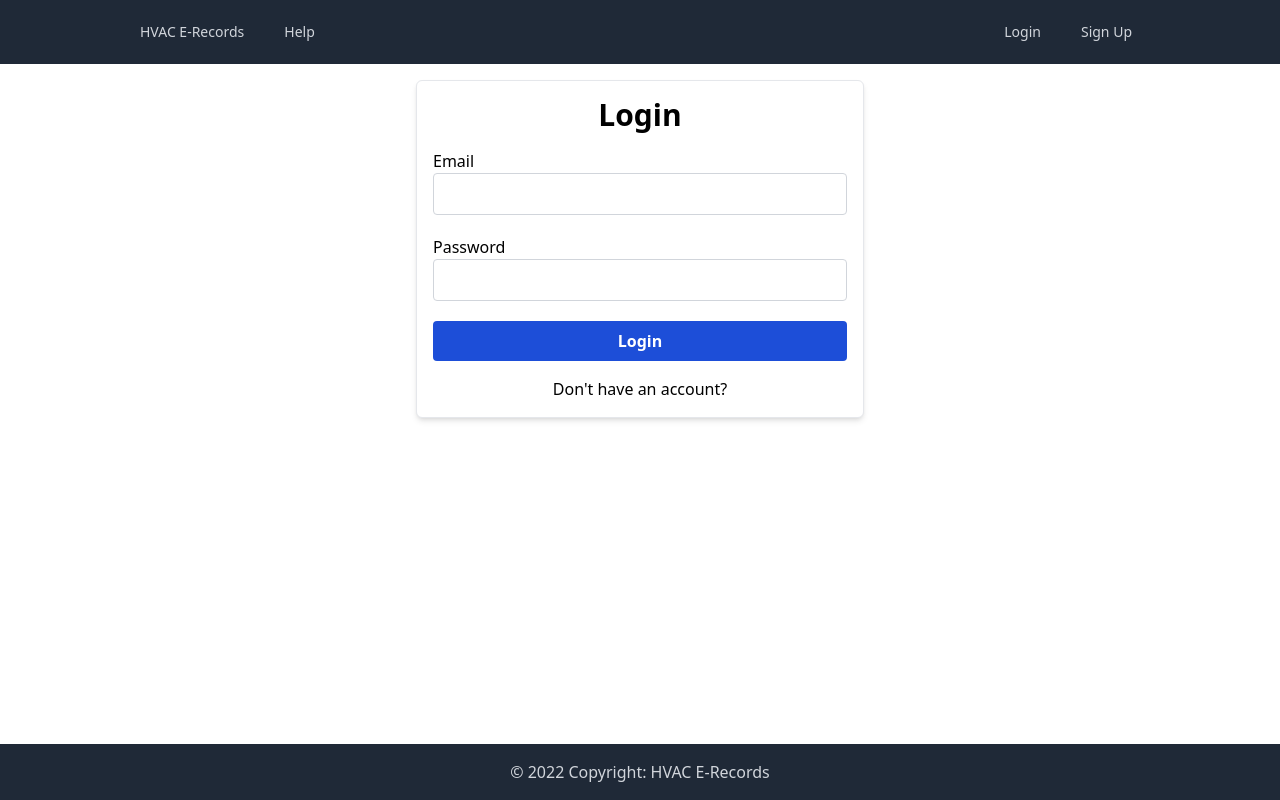
Test: Task details page › should display the selection task details
Step 1. Type "test@test.com" into the field with id "email" → (640, 194), box x1=433 y1=173 x2=847 y2=215
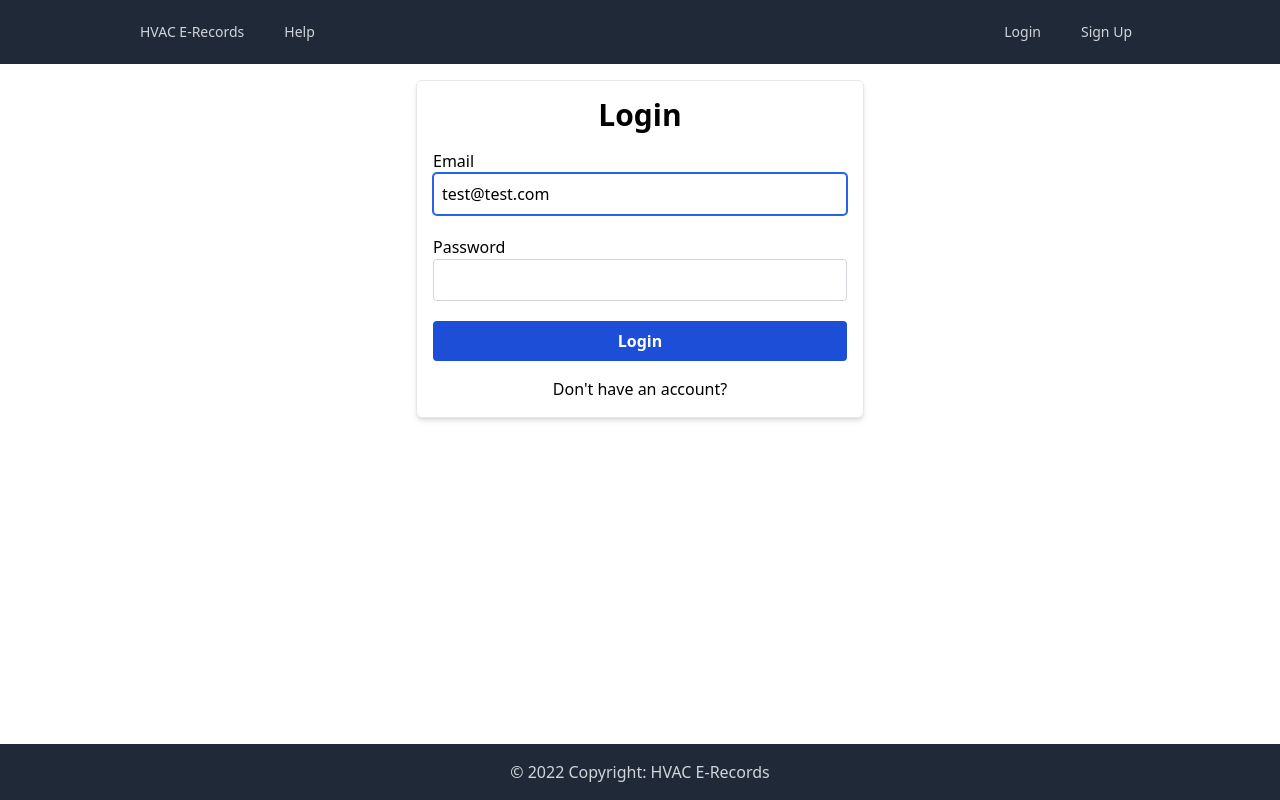
Step 2. Type "Testing123!" into the password field labelled "Password" → (640, 280), box x1=433 y1=259 x2=847 y2=301
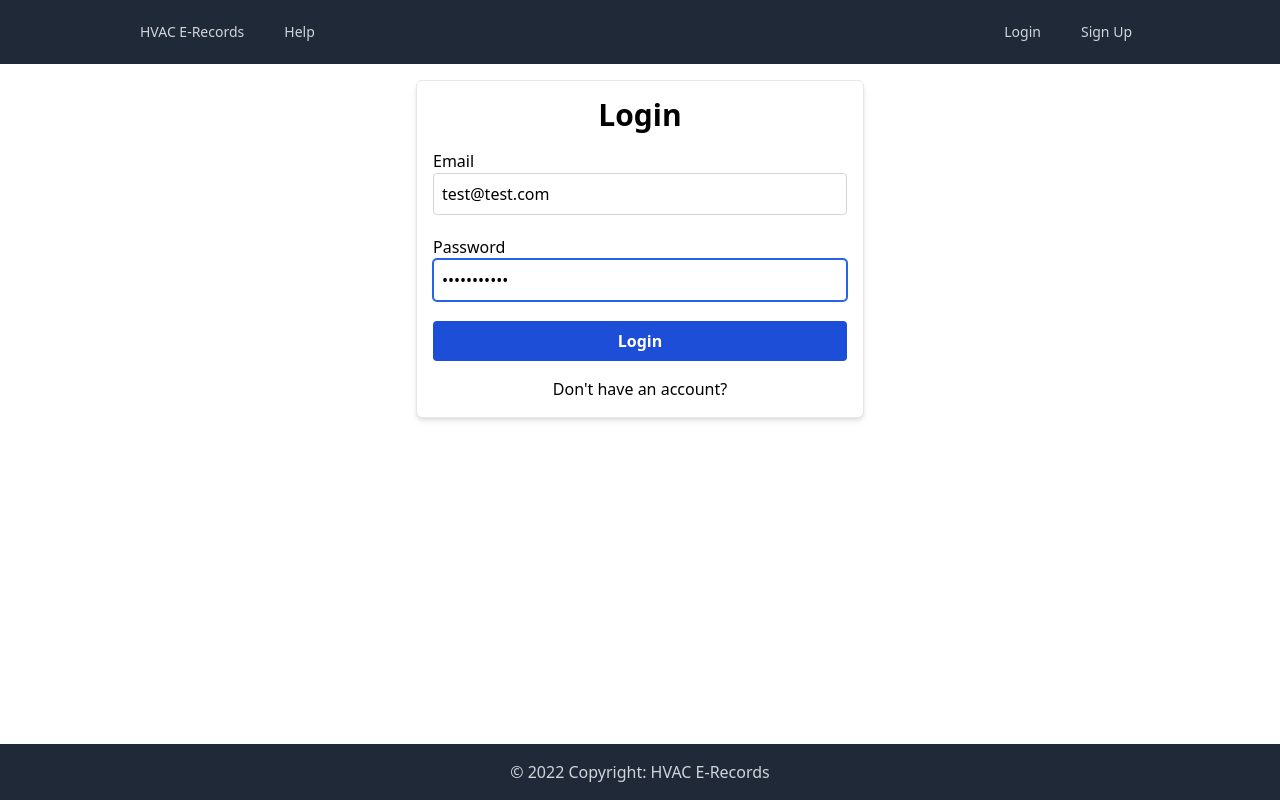
Step 3. Click the button with id "login-button" → (640, 341), box x1=433 y1=321 x2=847 y2=361
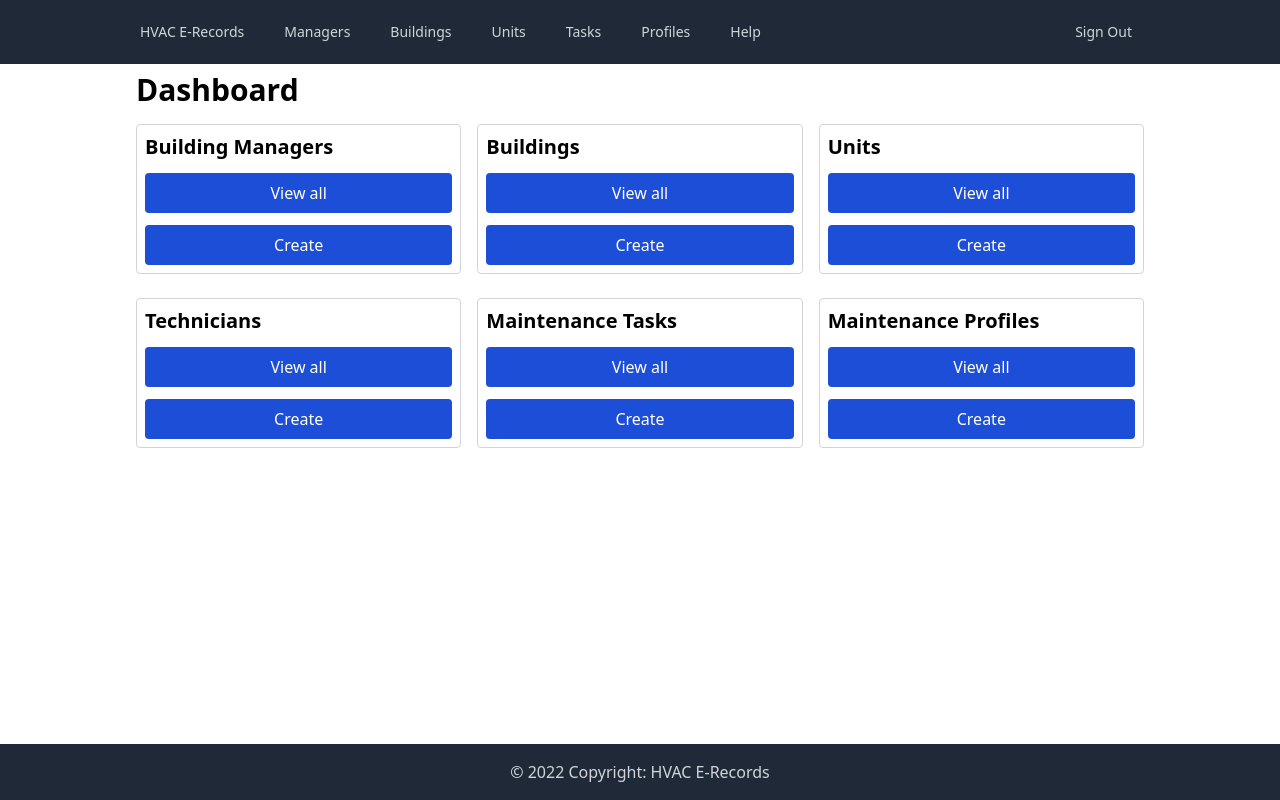
Step 4. Open "http://localhost:3000/tasks/1"
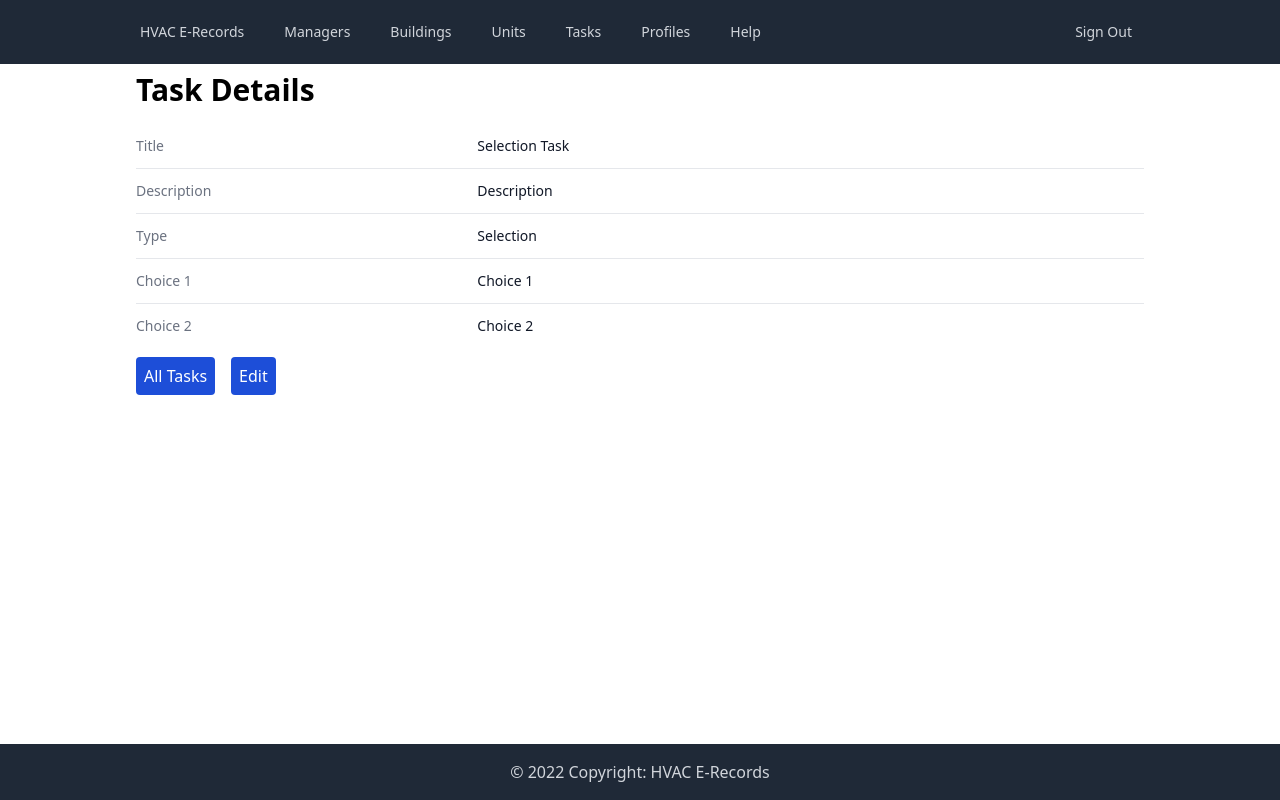
Expected: the text with id "title" reads "Selection Task", x1=477 y1=136 x2=569 y2=155
Expected: the text with id "description" reads "Description", x1=477 y1=181 x2=552 y2=200
Expected: the text with id "type" reads "Selection", x1=477 y1=226 x2=537 y2=245
